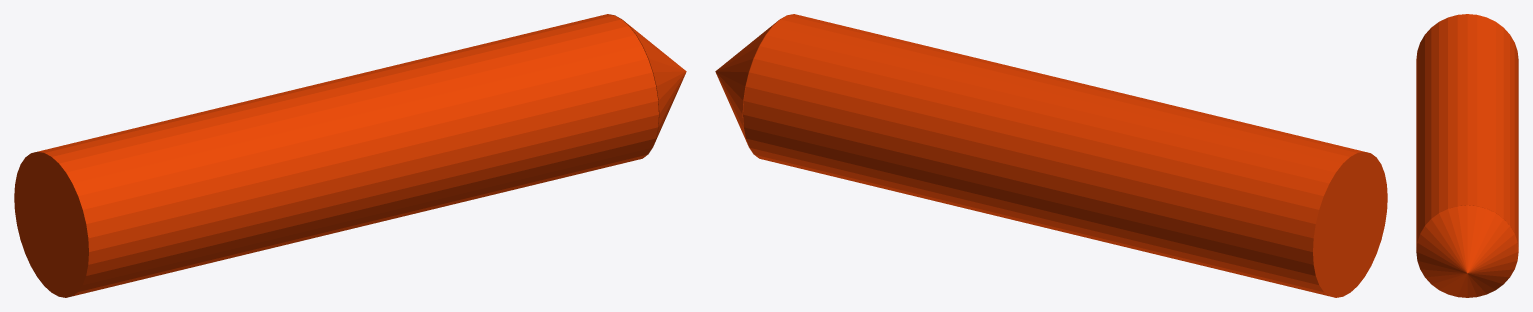
Rendered from missile_new.glb.
The picture shows the model from 3 angles, left to right: view 1: azimuth 30°, elevation 25°; view 2: azimuth 150°, elevation 25°; view 3: azimuth 270°, elevation 25°; orthographic projection. The views are drawn at different scales.
Visible parts, largest first — view 1: Cylinder; view 2: Cylinder; view 3: Cylinder.
Boxes of the visible parts, x1=… form: Cylinder: x1=14, y1=14, x2=686, y2=297; Cylinder: x1=715, y1=14, x2=1387, y2=297; Cylinder: x1=1416, y1=14, x2=1518, y2=297.
Size of the model in its own units: 4.81 by 0.9916 by 0.9811.
